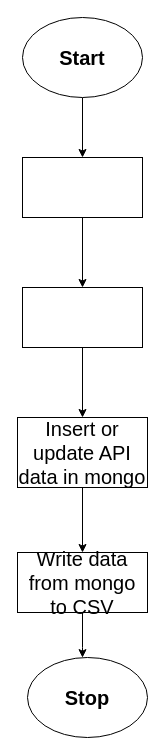
This 165x755 diagram has some shape labels left out. Here are the shapes that lost their labels. From the top down, the centre of each, then its label:
At pixel 82 187: "Get API data".
At pixel 82 317: "Mongo Client Connection".
